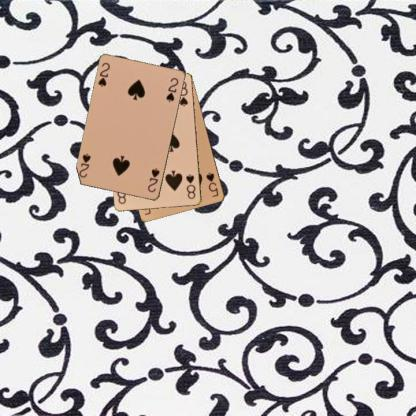2s: (145, 166, 161, 193), (96, 60, 111, 88)
5s: (204, 170, 220, 198)
8s: (184, 172, 197, 200)
